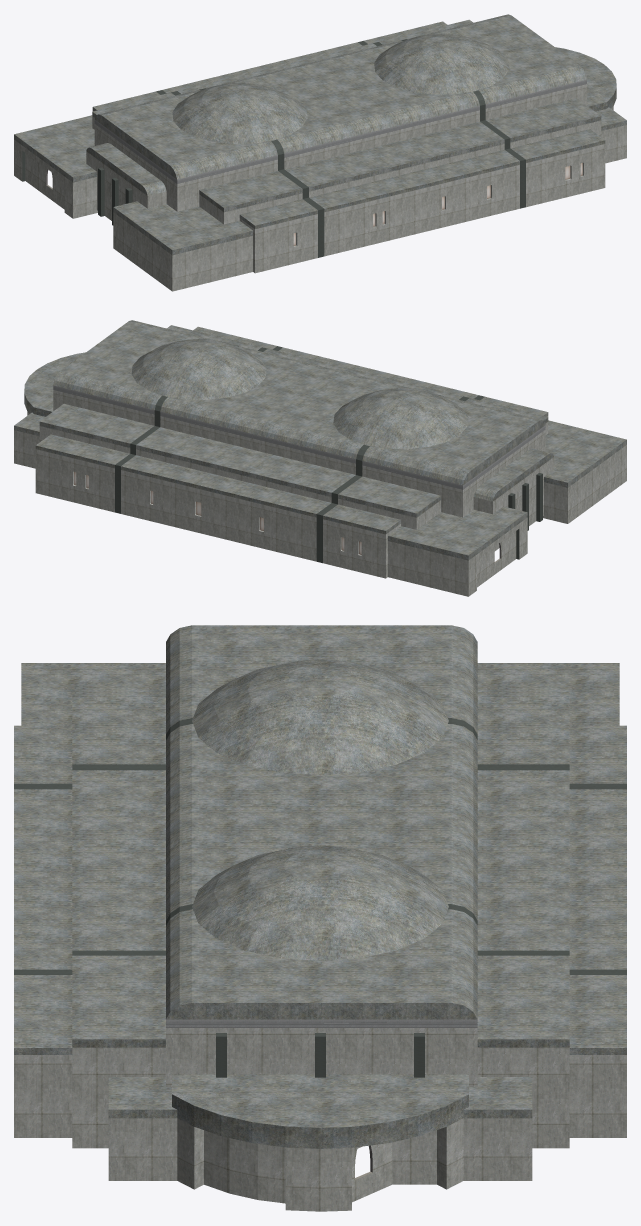
The model's file is thm_corl_cantina_r0_mesh_l0.fbx.
The picture shows the model from 3 angles, top to bottom: view 1: azimuth 30°, elevation 25°; view 2: azimuth 150°, elevation 25°; view 3: azimuth 270°, elevation 25°; orthographic projection. The views are drawn at different scales.
Visible parts, largest first — view 1: mesh_node; view 2: mesh_node; view 3: mesh_node.
Part boxes in pixels (box(x1,y1,x2,y2)): mesh_node: box(14, 14, 626, 291); mesh_node: box(14, 320, 626, 596); mesh_node: box(14, 625, 626, 1211).
Size of the model in its own units: 101 by 19.97 by 55.66.
